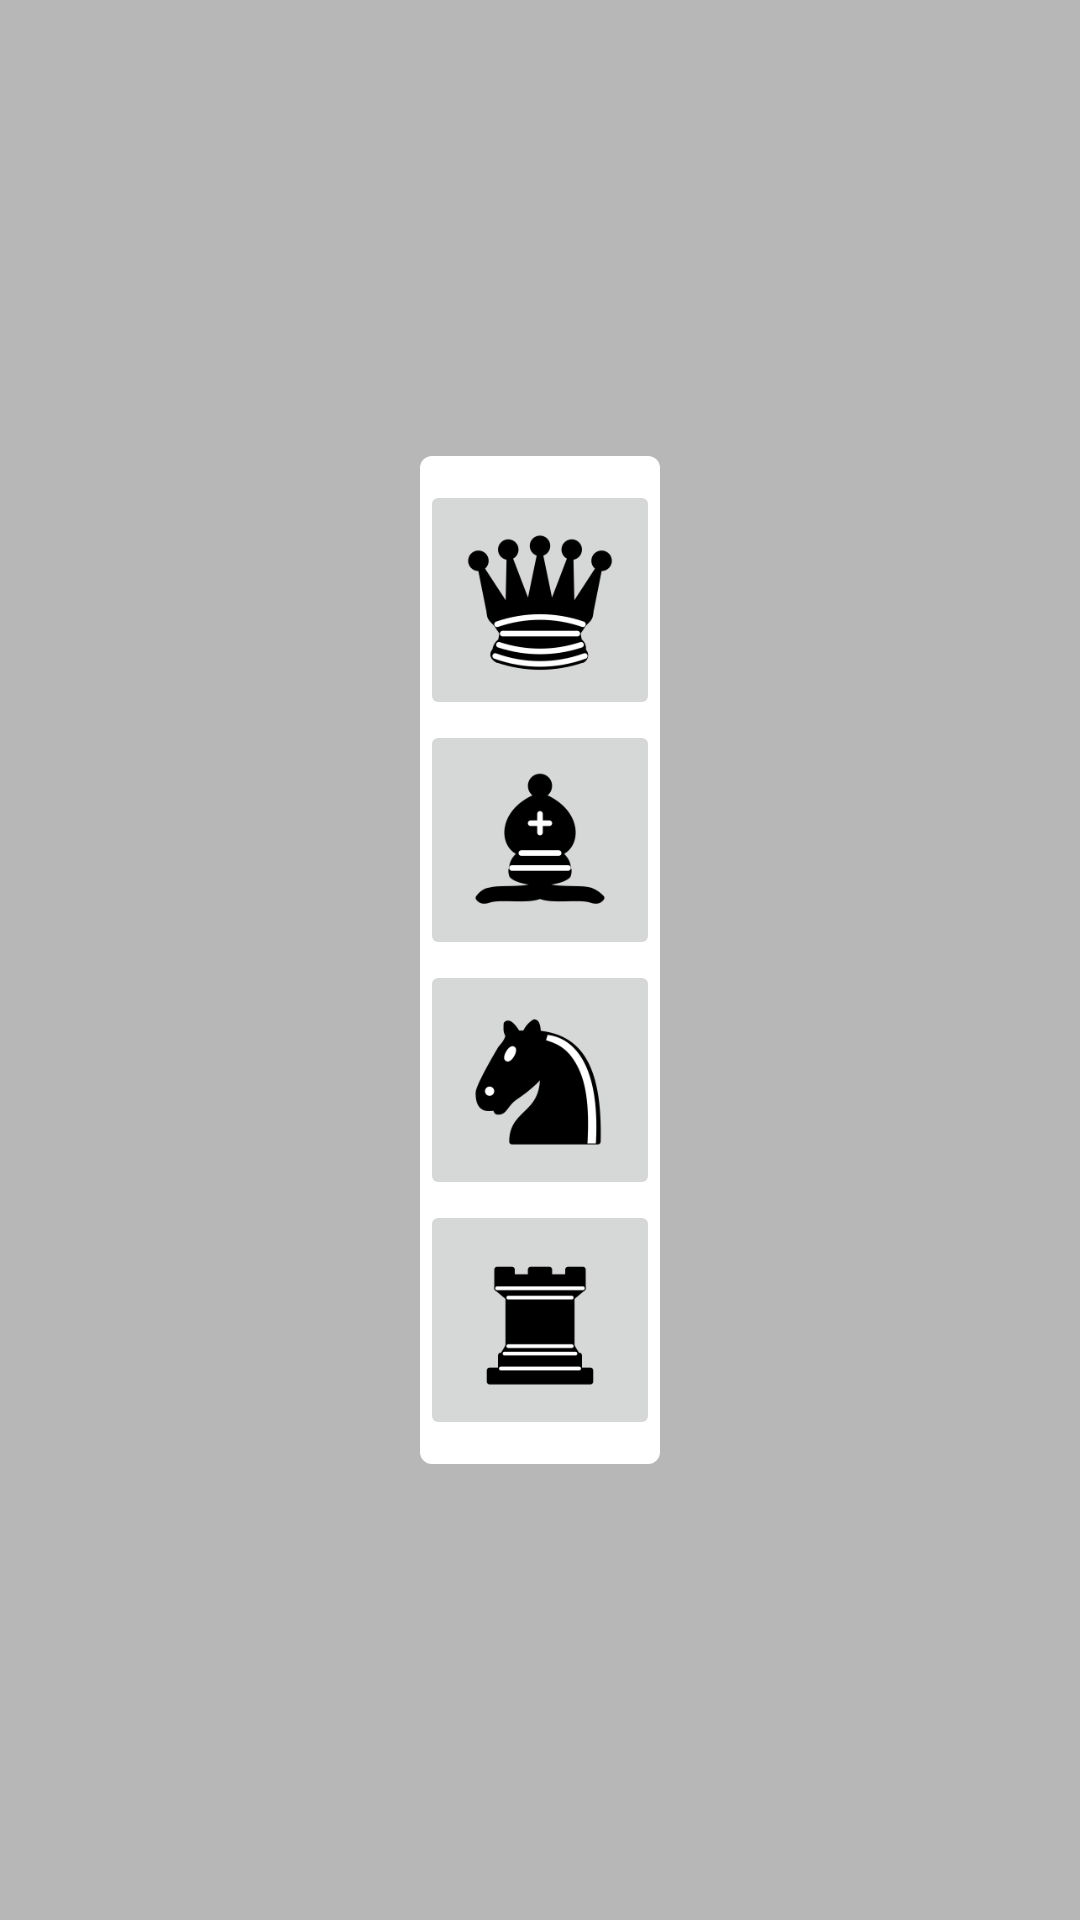

Icons on this 1080x1920 Android screen, each with its box as (x1, y1, x2, y2):
bishop: (432, 738, 648, 942)
knight: (432, 978, 648, 1182)
queen: (432, 498, 648, 702)
rook: (432, 1218, 648, 1422)
